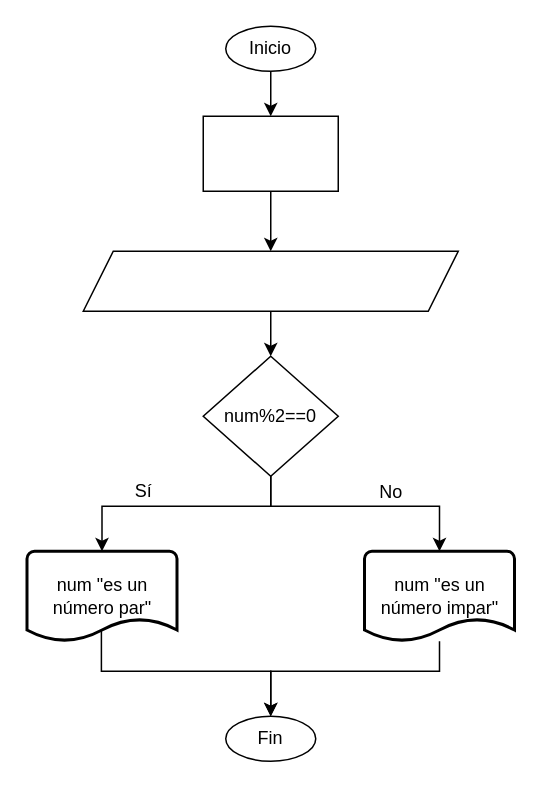
This 542x788 diagram has some shape labels left out. The shapes that lost their labels are listed below. From the top down, each one's centre as x and y in pixels, then its label:
pixel 270 153: int num
pixel 270 280: "Introduce un número" num
